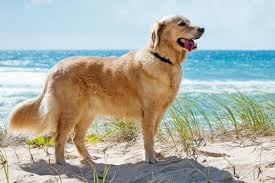Bulldog: (8, 5, 215, 167)
